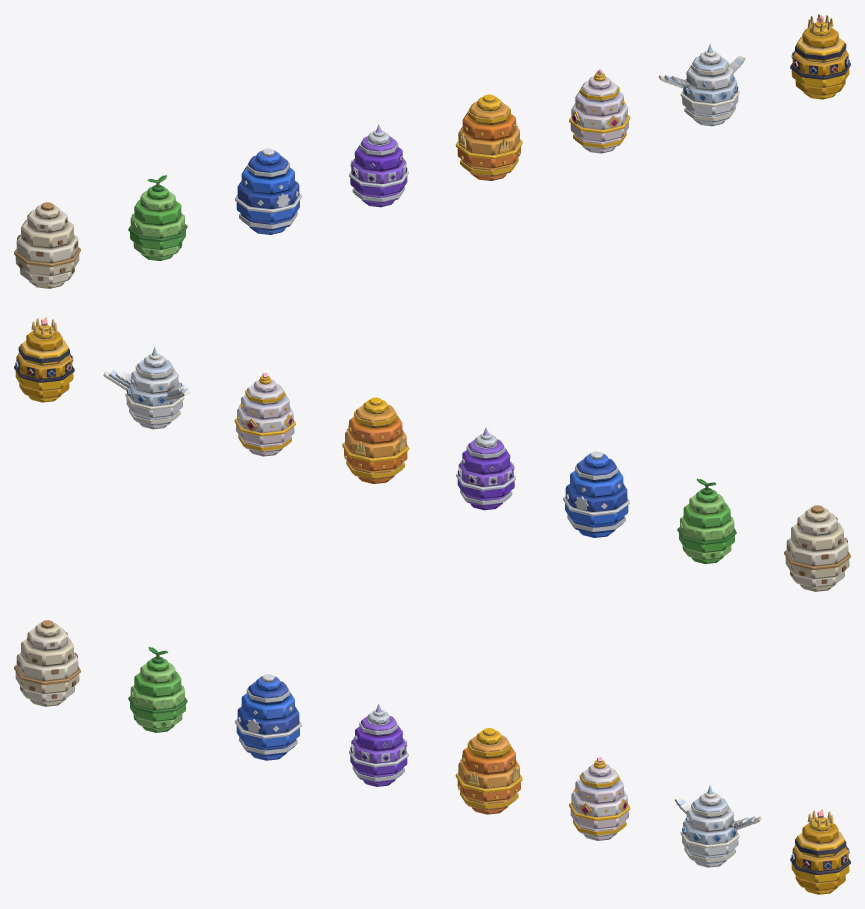
Rendered from Lot08_Oeufs.fbx.
The picture shows the model from 3 angles, top to bottom: view 1: azimuth 30°, elevation 25°; view 2: azimuth 150°, elevation 25°; view 3: azimuth 330°, elevation 25°; orthographic projection.
Visible parts, largest first — view 1: OeufDivin__Middle, OeufLegendaire__Middle, OeufCommun__Middle, OeufRare__Middle, OeufLegendaire__Top, OeufRare__Top, OeufCommun__Top, OeufCommun__Upper, OeufRare__Upper, OeufLegendaire__Upper, OeufSigma__Top, OeufCommun__Lower (+24 smaller); view 2: OeufDivin__Middle, OeufLegendaire__Middle, OeufCommun__Middle, OeufRare__Middle, OeufLegendaire__Top, OeufRare__Top, OeufCommun__Top, OeufCommun__Upper, OeufRare__Upper, OeufLegendaire__Upper, OeufSigma__Top, OeufCommun__Lower (+24 smaller); view 3: OeufDivin__Middle, OeufCommun__Middle, OeufLegendaire__Middle, OeufRare__Middle, OeufLegendaire__Top, OeufRare__Top, OeufCommun__Top, OeufCommun__Upper, OeufRare__Upper, OeufLegendaire__Upper, OeufSigma__Top, OeufCommun__Lower (+23 smaller).
Boxes of the visible parts, left/top/right/bottom form: OeufDivin__Middle: left=658, top=55, right=745, bottom=103; OeufLegendaire__Middle: left=458, top=121, right=519, bottom=155; OeufCommun__Middle: left=16, top=234, right=78, bottom=262; OeufRare__Middle: left=237, top=181, right=299, bottom=208; OeufLegendaire__Top: left=467, top=94, right=510, bottom=124; OeufRare__Top: left=246, top=148, right=289, bottom=178; OeufCommun__Top: left=27, top=202, right=67, bottom=232; OeufCommun__Upper: left=21, top=219, right=73, bottom=248; OeufRare__Upper: left=241, top=167, right=294, bottom=194; OeufLegendaire__Upper: left=462, top=113, right=515, bottom=140; OeufSigma__Top: left=802, top=14, right=838, bottom=48; OeufCommun__Lower: left=14, top=247, right=80, bottom=276; OeufDivin__Middle: left=103, top=370, right=189, bottom=406; OeufLegendaire__Middle: left=345, top=424, right=406, bottom=458; OeufCommun__Middle: left=786, top=537, right=848, bottom=565; OeufRare__Middle: left=565, top=484, right=627, bottom=511; OeufLegendaire__Top: left=354, top=397, right=397, bottom=427; OeufRare__Top: left=575, top=451, right=618, bottom=481; OeufCommun__Top: left=797, top=505, right=837, bottom=535; OeufCommun__Upper: left=791, top=522, right=843, bottom=551; OeufRare__Upper: left=570, top=470, right=623, bottom=497; OeufLegendaire__Upper: left=349, top=416, right=402, bottom=443; OeufSigma__Top: left=26, top=317, right=62, bottom=351; OeufCommun__Lower: left=784, top=550, right=850, bottom=579; OeufDivin__Middle: left=675, top=797, right=761, bottom=844; OeufCommun__Middle: left=16, top=652, right=78, bottom=680; OeufLegendaire__Middle: left=458, top=754, right=519, bottom=788; OeufRare__Middle: left=237, top=706, right=299, bottom=734; OeufLegendaire__Top: left=467, top=728, right=510, bottom=758; OeufRare__Top: left=246, top=674, right=289, bottom=704; OeufCommun__Top: left=27, top=620, right=67, bottom=650; OeufCommun__Upper: left=21, top=637, right=73, bottom=666; OeufRare__Upper: left=241, top=692, right=294, bottom=720; OeufLegendaire__Upper: left=462, top=746, right=515, bottom=773; OeufSigma__Top: left=802, top=809, right=838, bottom=843; OeufCommun__Lower: left=14, top=665, right=80, bottom=694.
Size of the model in its own units: 67.28 by 6 by 4.49.
8 materials, 8 textured.
